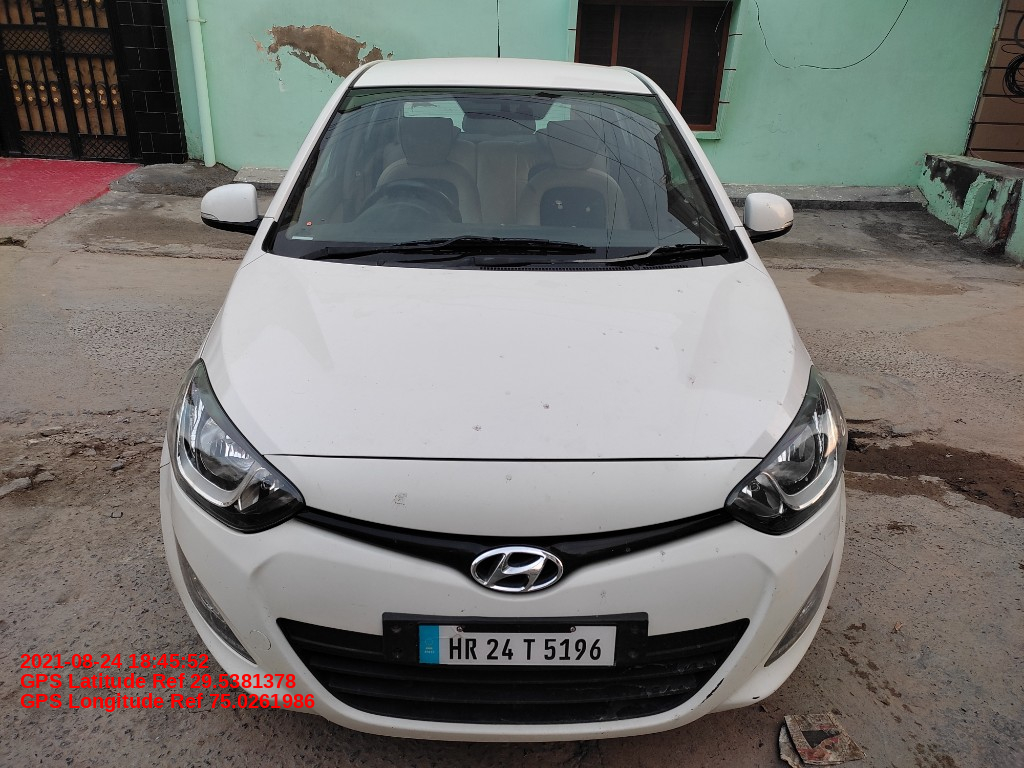Scratched: (689, 672, 732, 715), (379, 485, 427, 517), (746, 690, 763, 705)
